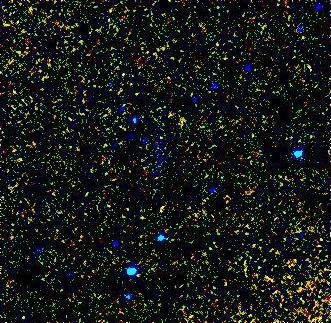star: (167, 109, 197, 139)
